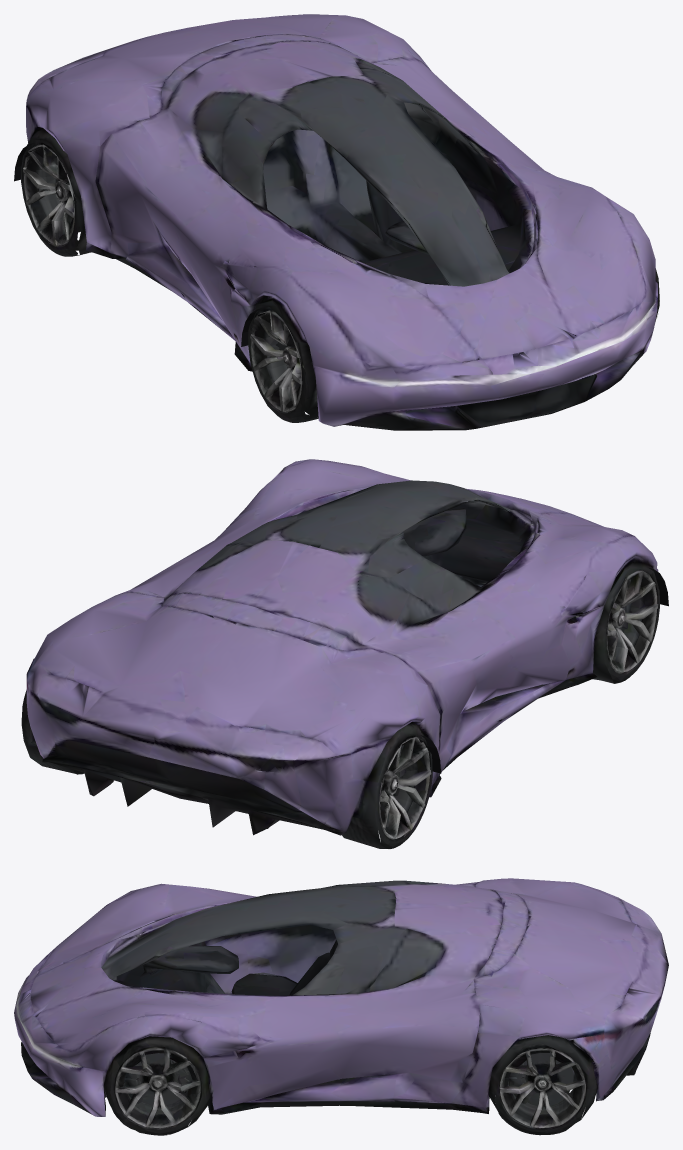
File: car_super_lod.glb
3 views of the same model, one above another, from view 1: azimuth 30°, elevation 25°; view 2: azimuth 150°, elevation 25°; view 3: azimuth 270°, elevation 25° (orthographic). The views are drawn at different scales.
Parts seen in each view (by area): view 1: body, wheel_FR, wheel_RR; view 2: body, wheel_FR, wheel_RR; view 3: body, wheel_FL, wheel_RL.
Part boxes in pixels (bbox=[...]): body: bbox=[21, 14, 659, 430]; wheel_FR: bbox=[248, 312, 318, 422]; wheel_RR: bbox=[23, 147, 82, 256]; body: bbox=[21, 459, 658, 848]; wheel_FR: bbox=[603, 571, 659, 683]; wheel_RR: bbox=[377, 739, 432, 848]; body: bbox=[14, 878, 668, 1126]; wheel_FL: bbox=[107, 1050, 205, 1135]; wheel_RL: bbox=[494, 1050, 590, 1135].
Size of the model in its own units: 2.51 by 1.29 by 4.6.
Materials: 2 (1 with a texture image).
